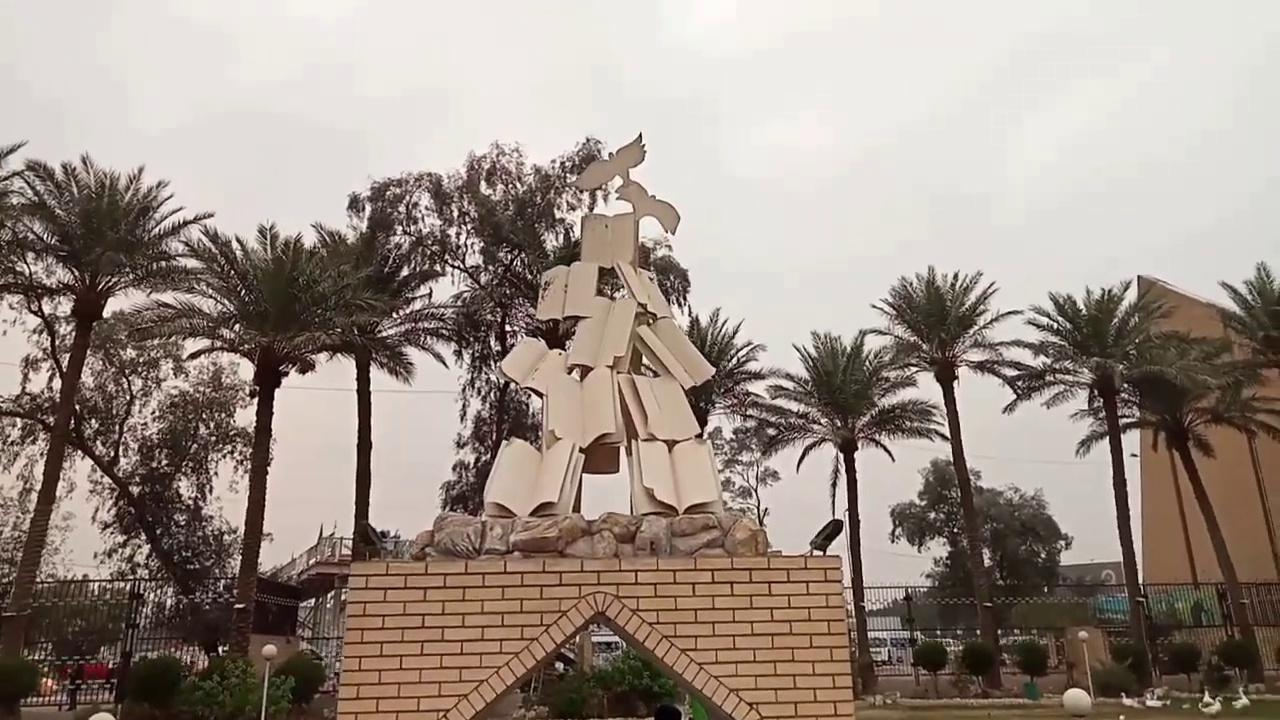person: (118, 654, 185, 719), (0, 655, 40, 719), (63, 666, 79, 710), (652, 703, 682, 719)
tree: (0, 145, 216, 664), (124, 218, 377, 655), (346, 134, 609, 517), (721, 328, 946, 694), (1002, 277, 1184, 695), (863, 263, 1030, 693), (302, 219, 451, 560), (887, 454, 1072, 685), (1210, 258, 1279, 578), (678, 306, 774, 525), (542, 644, 678, 718), (1216, 258, 1279, 370), (271, 647, 326, 713), (1213, 634, 1259, 688), (1011, 638, 1049, 700), (958, 639, 998, 695), (911, 638, 948, 698), (1163, 639, 1202, 692), (1090, 656, 1137, 698)
